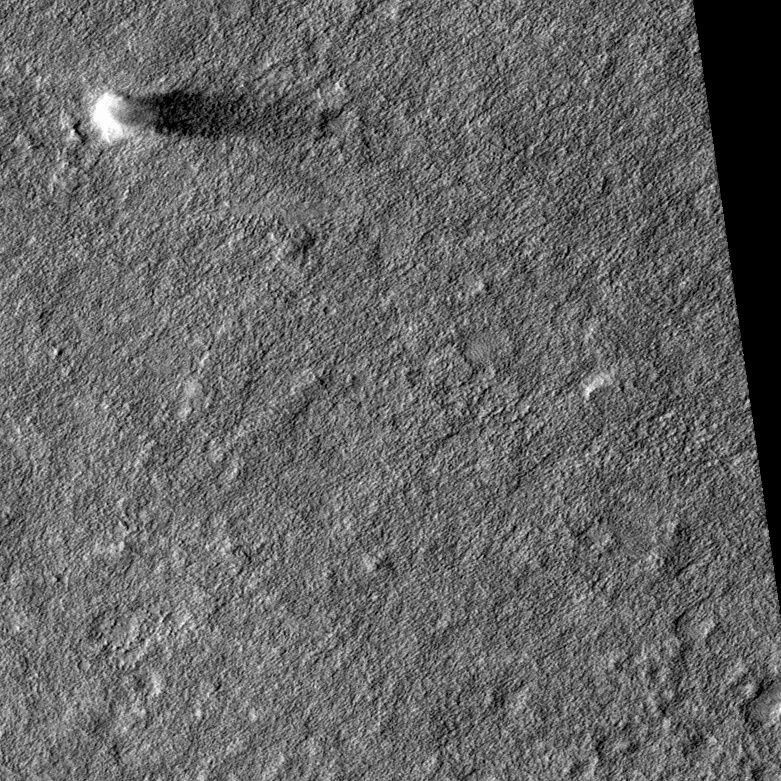dust_devil: (90, 87, 334, 146)
